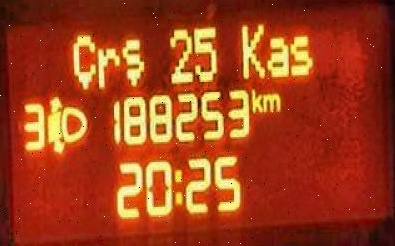0: (144, 158, 171, 217)
1: (111, 98, 120, 143)
2: (182, 157, 210, 213), (114, 160, 141, 218), (167, 27, 191, 83), (172, 90, 196, 140)
3: (225, 88, 249, 138), (20, 101, 44, 150)
5: (212, 153, 240, 212), (192, 25, 216, 81), (198, 88, 224, 138)
8: (147, 92, 171, 142), (121, 95, 146, 143)
X: (71, 31, 95, 90), (239, 22, 264, 78), (120, 36, 144, 85), (287, 33, 312, 75), (96, 45, 120, 88), (265, 35, 287, 76), (261, 92, 280, 112), (172, 167, 181, 203), (250, 87, 261, 112)
